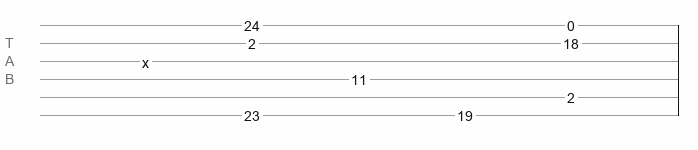0: (567, 18, 575, 28)
11: (351, 72, 367, 82)
18: (563, 36, 579, 46)
19: (457, 108, 473, 118)
2: (248, 36, 256, 46), (567, 90, 575, 100)
23: (244, 108, 260, 118)
24: (244, 18, 260, 28)
x: (142, 55, 149, 63)
